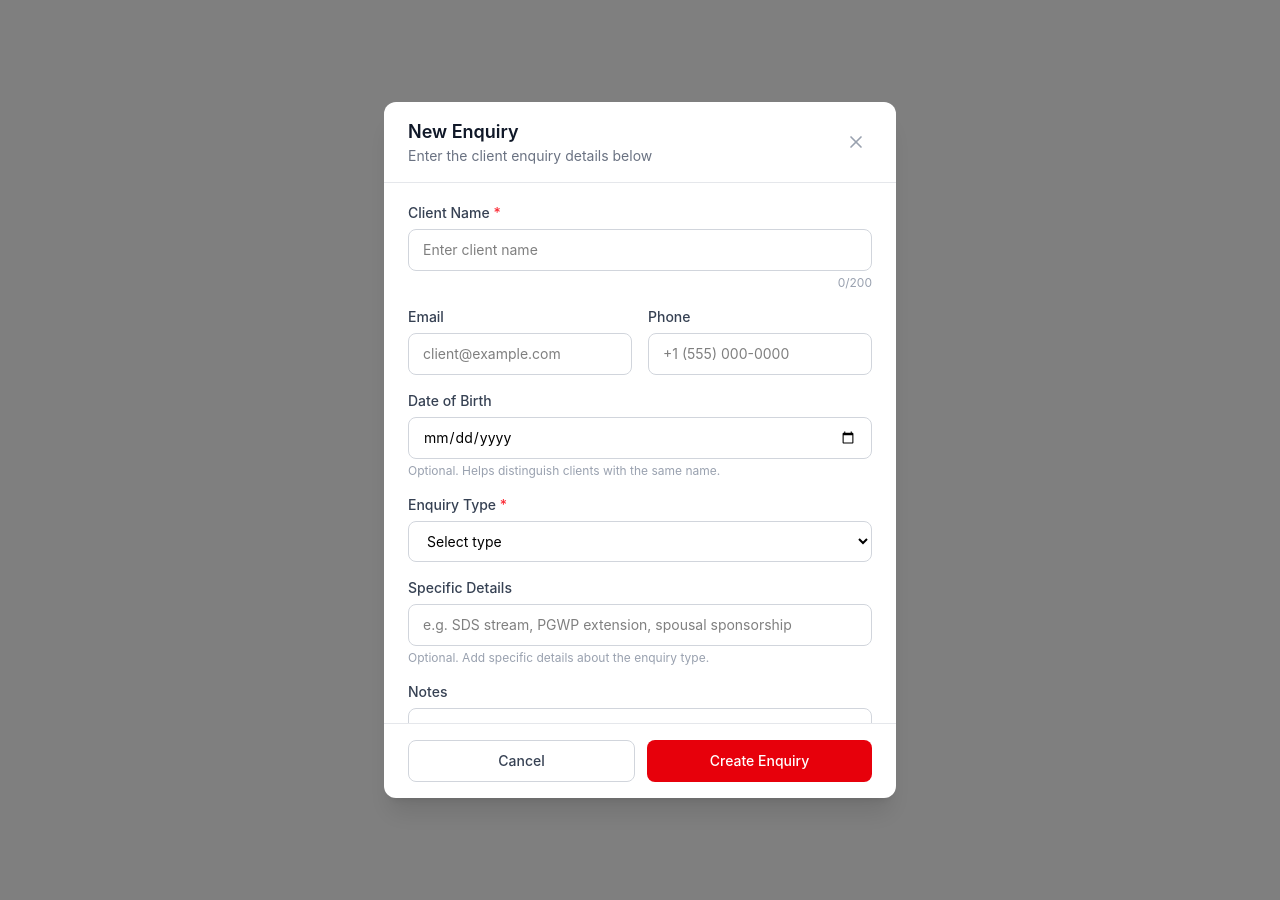
Test: AddEnquiryModal Component › Form Validation › should show error for empty enquiry type
Type "John Doe" into the field with placeholder "Enter client name".
click(640, 250); type("John Doe")  # box [408, 229, 872, 271]
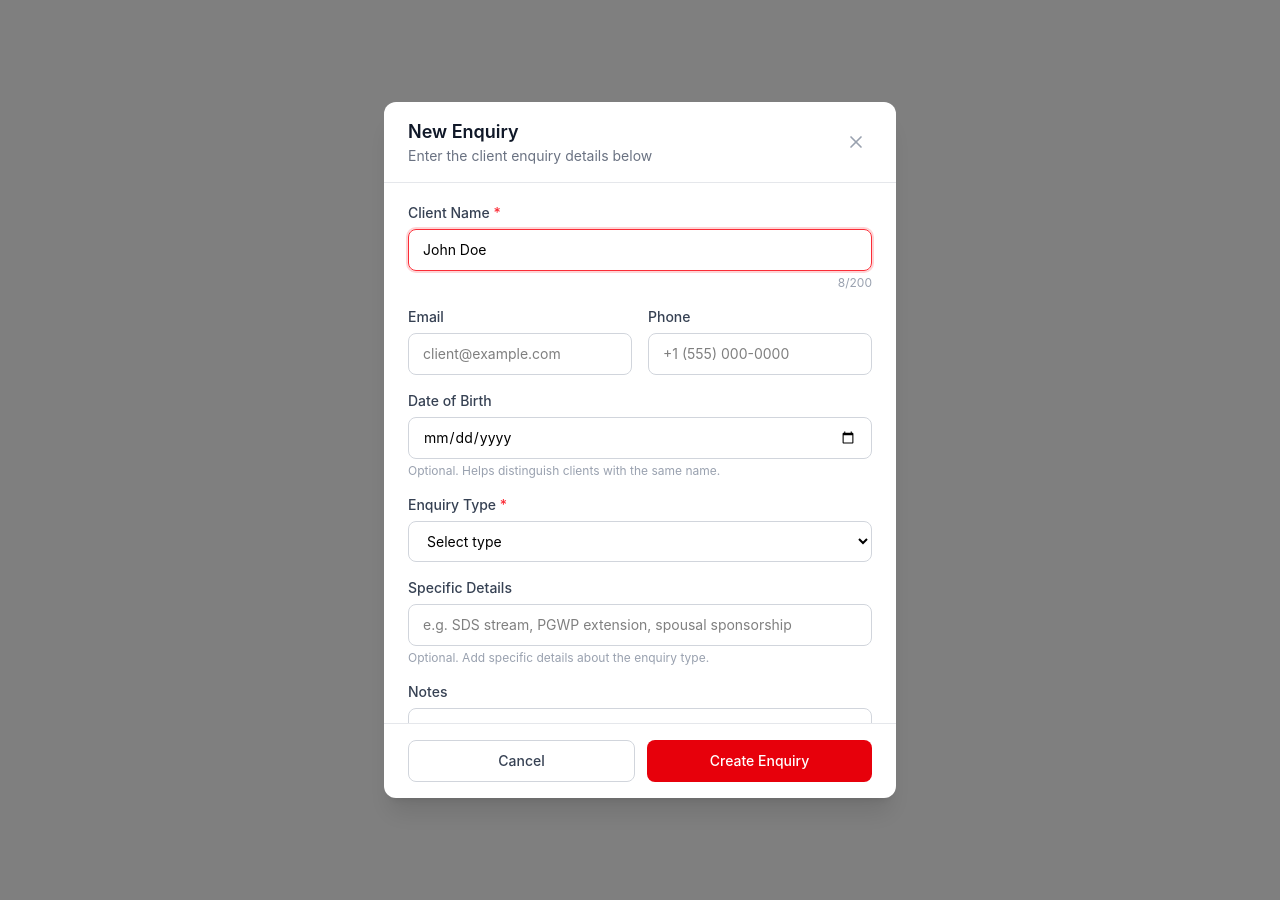
Click the button "Create Enquiry".
click(760, 761)  # box [647, 740, 872, 782]
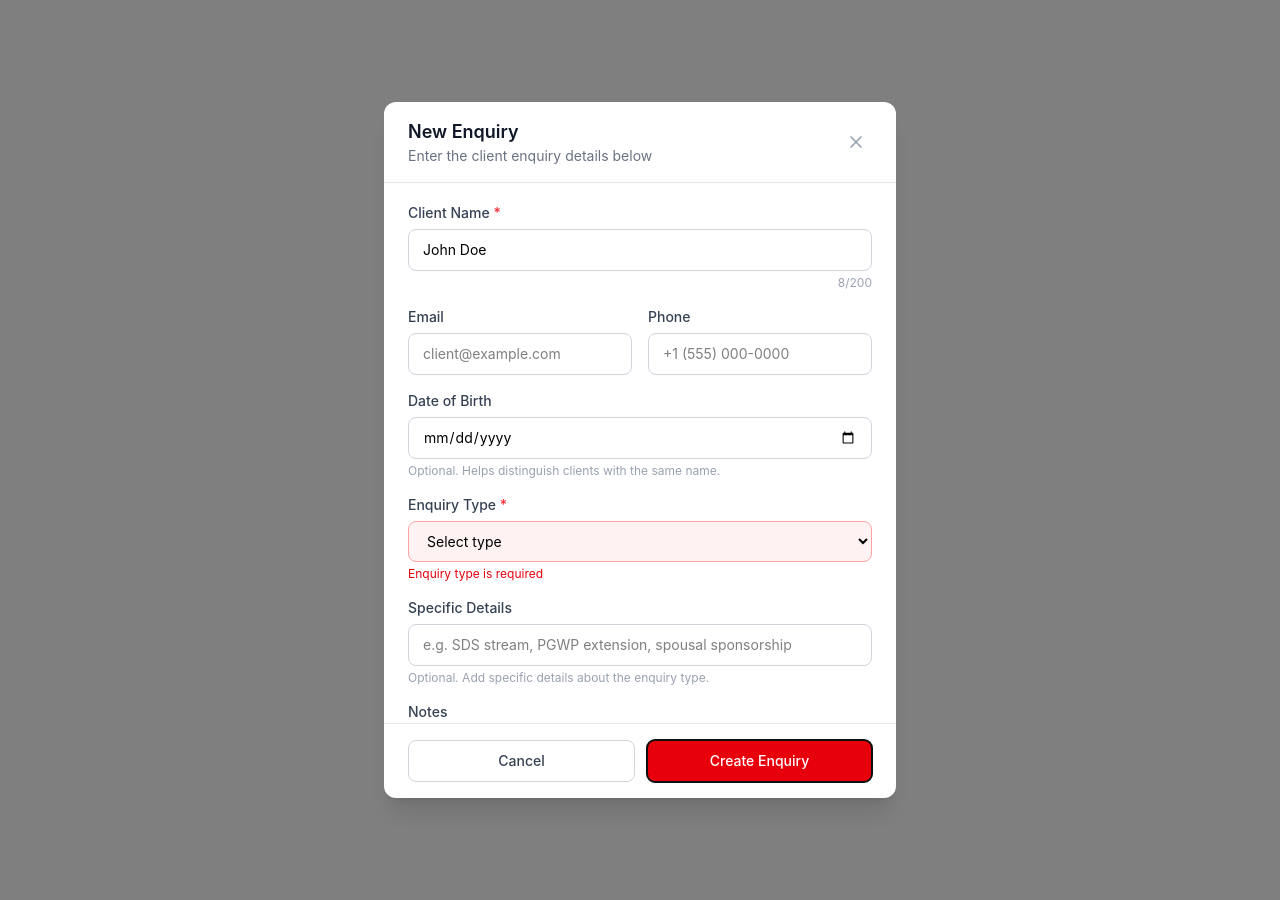
Check: the text "Enquiry type is required" is shown, box [408, 566, 543, 581]
